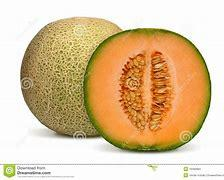Melon Ripe: (84, 27, 212, 152), (20, 15, 119, 137)
